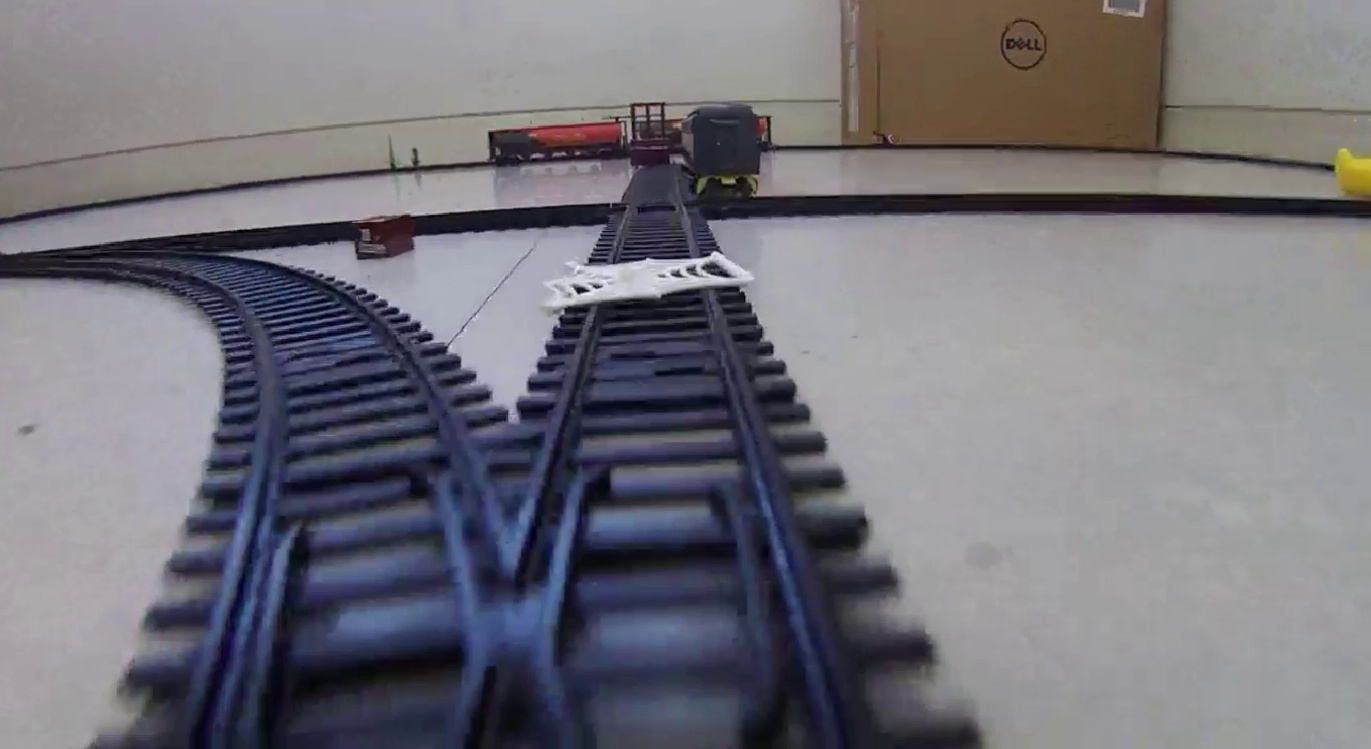box: (353, 214, 414, 259)
web: (543, 252, 758, 315)
